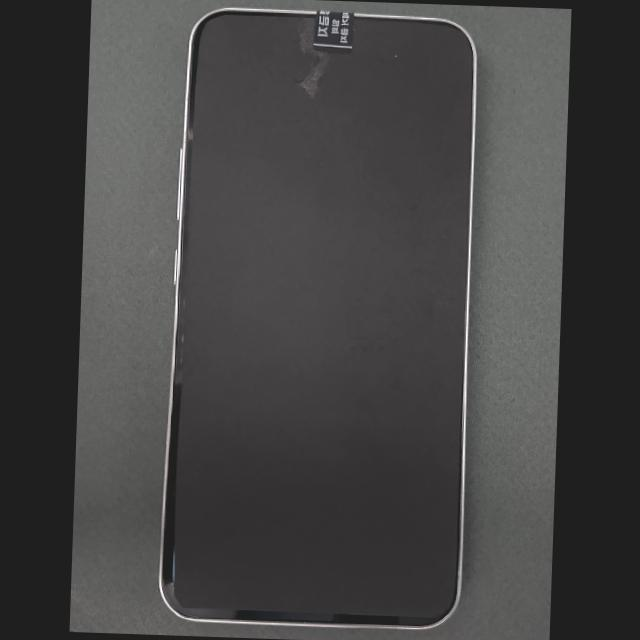phone: (159, 10, 475, 627)
sticker: (313, 10, 354, 52)
